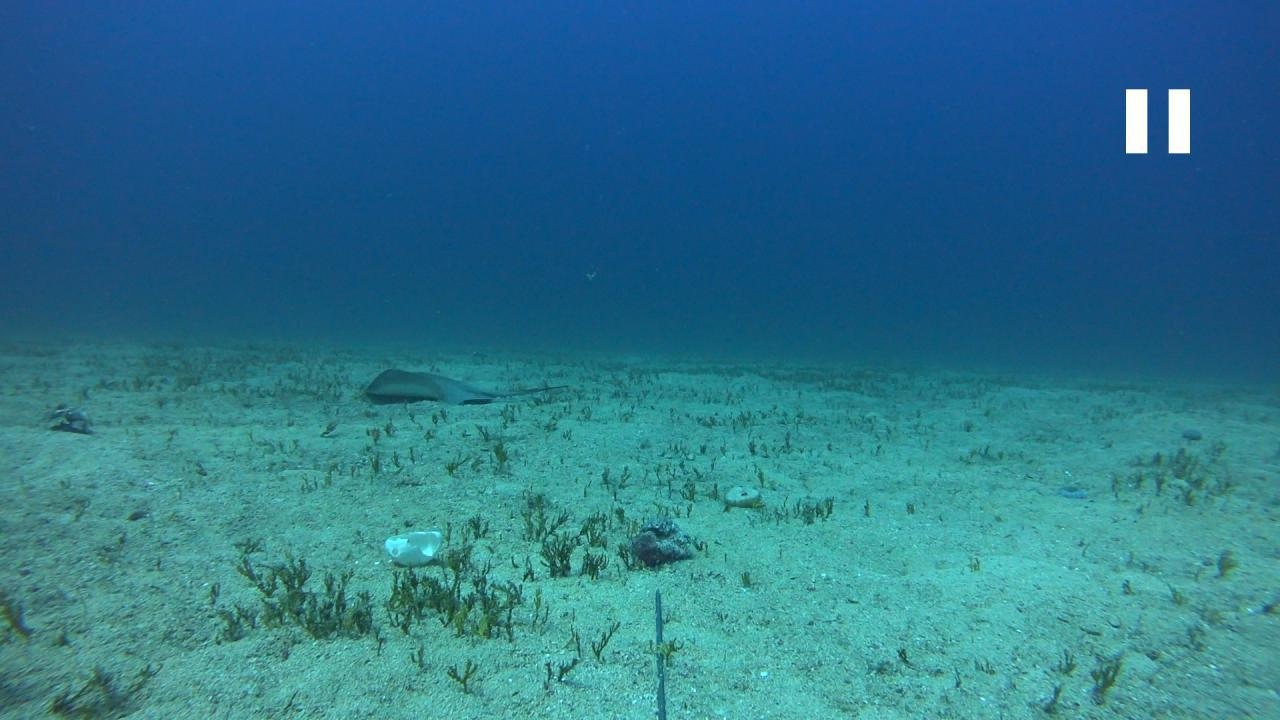dasyatis: (362, 367, 570, 404)
